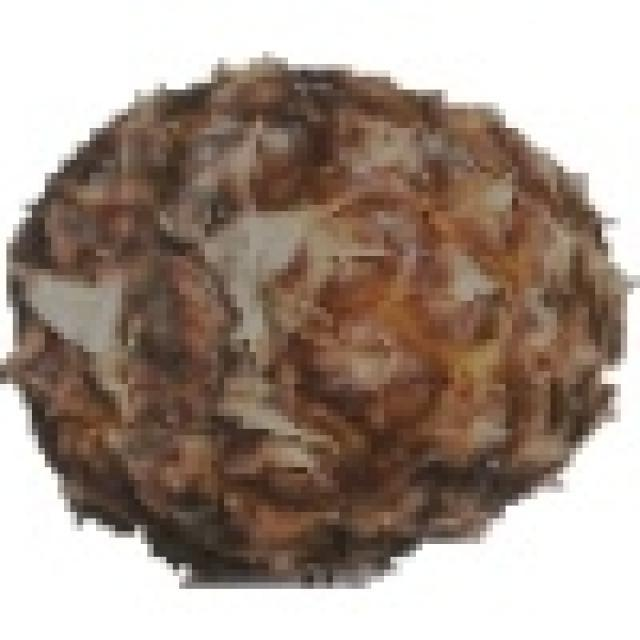pineapple: (19, 51, 634, 570)
